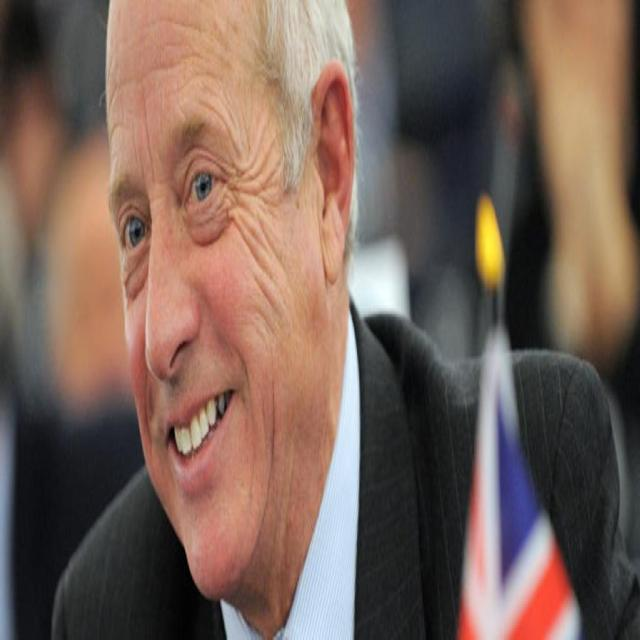Face: (109, 1, 345, 610)
